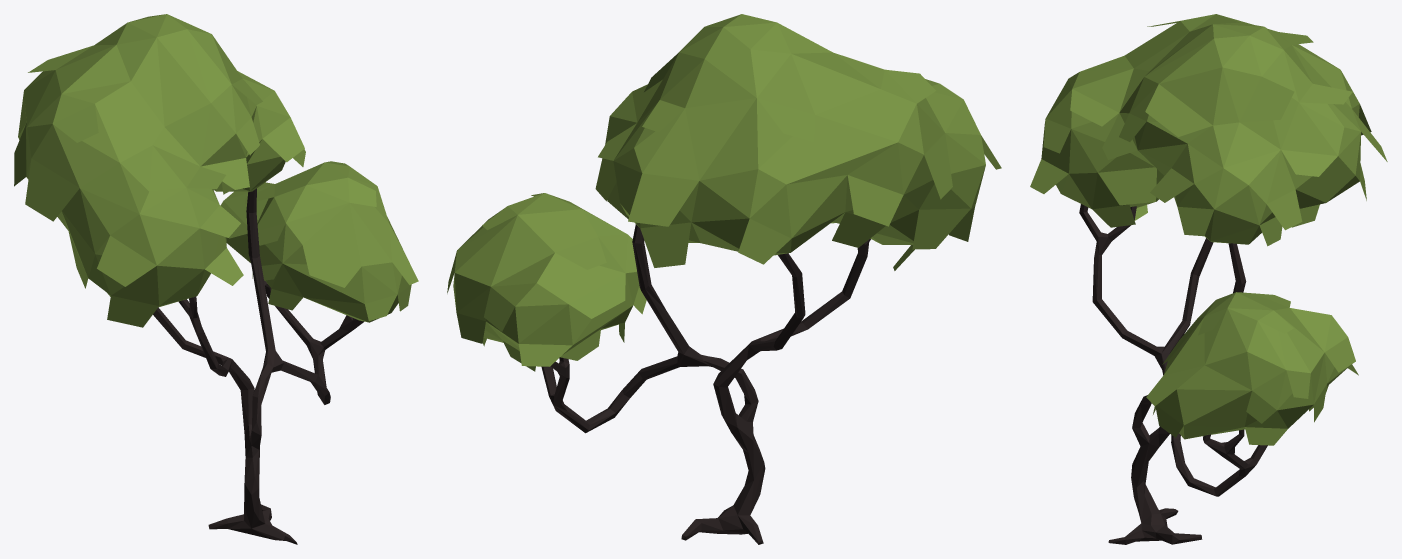
File: Tree_Forest_Green_01.glb
The picture shows the model from 3 angles, left to right: view 1: azimuth 30°, elevation 25°; view 2: azimuth 150°, elevation 25°; view 3: azimuth 270°, elevation 25°; orthographic projection. The views are drawn at different scales.
Visible parts, largest first — view 1: Tree_Forest_Green_01; view 2: Tree_Forest_Green_01; view 3: Tree_Forest_Green_01.
Boxes of the visible parts, left/top/right/bottom form: Tree_Forest_Green_01: left=14, top=14, right=418, bottom=544; Tree_Forest_Green_01: left=447, top=14, right=1001, bottom=544; Tree_Forest_Green_01: left=1030, top=14, right=1387, bottom=544.
Size of what is drawn, in the model's own units: 7.95 by 9.58 by 6.44.
1 material, 1 textured.
